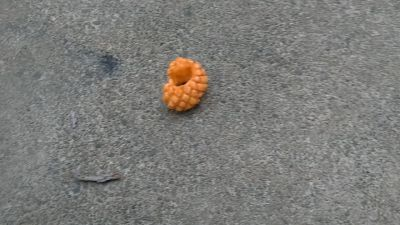eggs: (159, 55, 211, 114)
